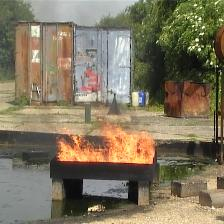fire: (57, 121, 156, 164)
